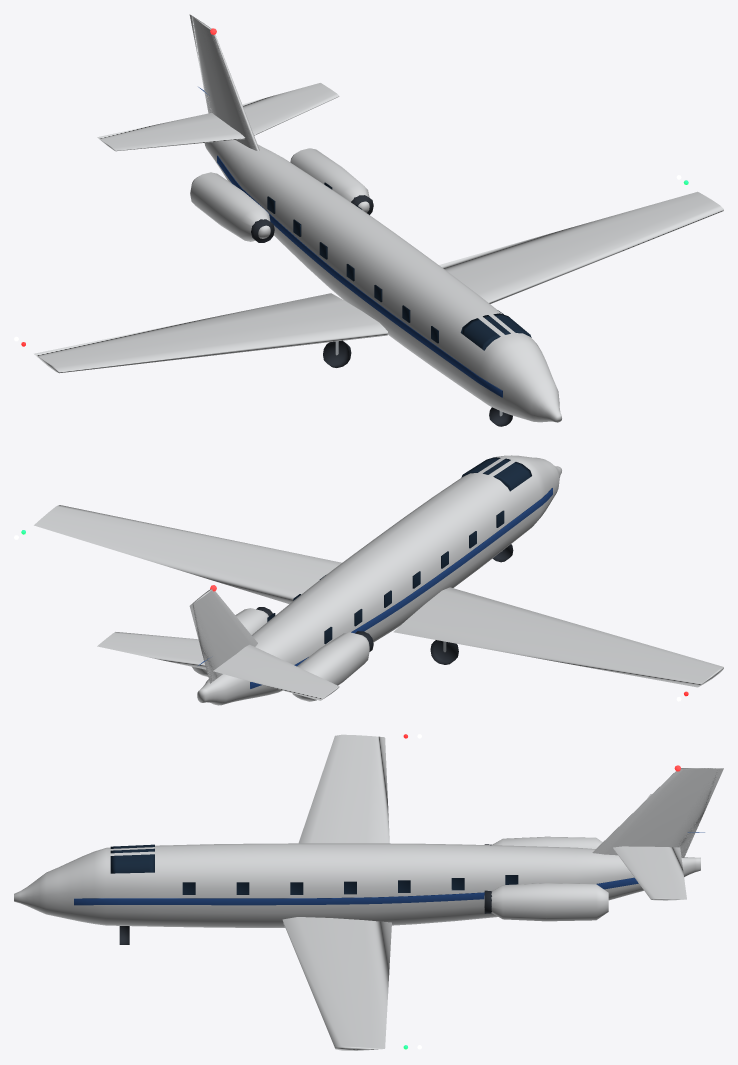
The picture shows the model from 3 angles, top to bottom: view 1: azimuth 30°, elevation 25°; view 2: azimuth 150°, elevation 25°; view 3: azimuth 270°, elevation 25°; orthographic projection. The views are drawn at different scales.
Parts seen in each view (by area): view 1: body; view 2: body, gearL; view 3: body.
Boxes of the visible parts, left/top/right/bottom form: body: left=34, top=14, right=723, bottom=422; body: left=34, top=455, right=723, bottom=705; gearL: left=430, top=640, right=458, bottom=664; body: left=14, top=734, right=723, bottom=1050.
Size of the model in its own units: 16.26 by 4.52 by 15.59.
